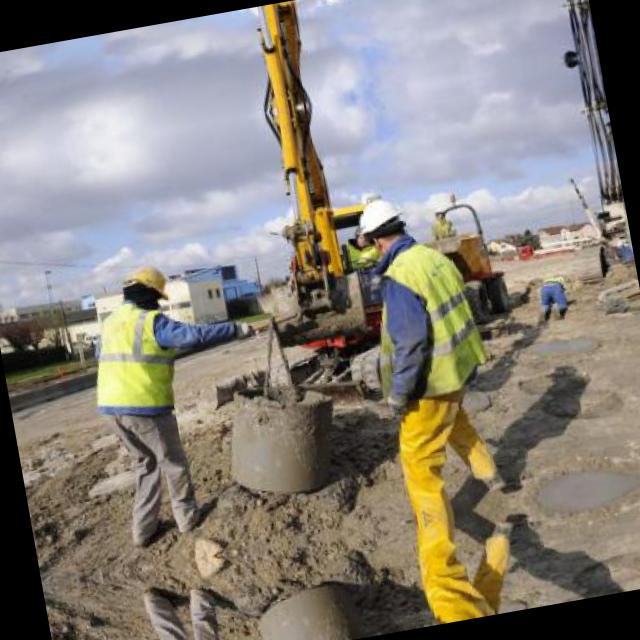helmet: (354, 194, 408, 252), (119, 258, 168, 302)
